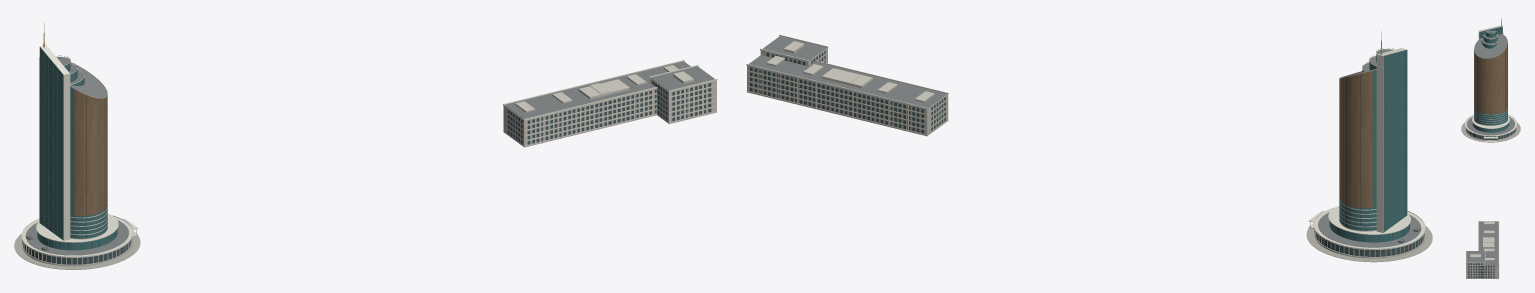
File: transport-r2-draco.glb
3 renders of one model, left to right at view 1: azimuth 30°, elevation 25°; view 2: azimuth 150°, elevation 25°; view 3: azimuth 270°, elevation 25°, orthographic. The views are drawn at different scales.
Parts seen in each view (by area): view 1: Transport Limestone, Transport Teal glazing, Transport Coping, Transport Roof, Transport Podium glazing, Transport Mullions, Transport Bronze 0, Transport Bronze 5, Transport Bronze 1, Transport Paving, Transport Bronze 4, Transport Bronze 2 (+1 smaller); view 2: Transport Limestone, Transport Teal glazing, Transport Coping, Transport Roof, Transport Podium glazing, Transport Mullions, Transport Bronze 0, Transport Bronze 1, Transport Bronze 2, Transport Bronze 5, Transport Bronze 3, Transport Bronze 4 (+1 smaller); view 3: Transport Roof, Transport Limestone, Transport Coping, Transport Teal glazing, Transport Bronze 2, Transport Bronze 3, Transport Podium glazing, Transport Bronze 4, Transport Bronze 1, Transport Bronze 5, Transport Bronze 0, Transport Mullions (+1 smaller).
Part boxes in pixels (bbox=[...]): Transport Limestone: bbox=[22, 65, 716, 266]; Transport Teal glazing: bbox=[37, 47, 117, 250]; Transport Coping: bbox=[21, 45, 717, 257]; Transport Roof: bbox=[25, 57, 714, 255]; Transport Podium glazing: bbox=[23, 81, 711, 264]; Transport Mullions: bbox=[25, 47, 136, 261]; Transport Bronze 0: bbox=[74, 91, 107, 215]; Transport Bronze 5: bbox=[74, 91, 107, 216]; Transport Bronze 1: bbox=[74, 89, 107, 210]; Transport Paving: bbox=[14, 234, 140, 269]; Transport Bronze 4: bbox=[74, 97, 107, 215]; Transport Bronze 2: bbox=[74, 96, 107, 207]; Transport Limestone: bbox=[747, 41, 1424, 258]; Transport Teal glazing: bbox=[1329, 50, 1409, 242]; Transport Coping: bbox=[746, 34, 1425, 249]; Transport Roof: bbox=[749, 36, 1421, 247]; Transport Podium glazing: bbox=[750, 50, 1423, 256]; Transport Mullions: bbox=[1310, 48, 1421, 253]; Transport Bronze 0: bbox=[1339, 77, 1372, 208]; Transport Bronze 1: bbox=[1339, 74, 1372, 208]; Transport Bronze 2: bbox=[1339, 71, 1372, 201]; Transport Bronze 5: bbox=[1339, 79, 1372, 208]; Transport Bronze 3: bbox=[1339, 72, 1372, 204]; Transport Bronze 4: bbox=[1339, 70, 1372, 207]; Transport Roof: bbox=[1466, 30, 1514, 265]; Transport Limestone: bbox=[1465, 127, 1516, 278]; Transport Coping: bbox=[1464, 25, 1517, 277]; Transport Teal glazing: bbox=[1472, 26, 1509, 132]; Transport Bronze 2: bbox=[1474, 45, 1507, 113]; Transport Bronze 3: bbox=[1474, 54, 1507, 113]; Transport Podium glazing: bbox=[1466, 128, 1515, 277]; Transport Bronze 4: bbox=[1474, 50, 1507, 112]; Transport Bronze 1: bbox=[1474, 47, 1507, 114]; Transport Bronze 5: bbox=[1474, 48, 1507, 111]; Transport Bronze 0: bbox=[1474, 47, 1507, 112]; Transport Mullions: bbox=[1474, 28, 1507, 140].
Size of the model in its own units: 506 by 158 by 78.
